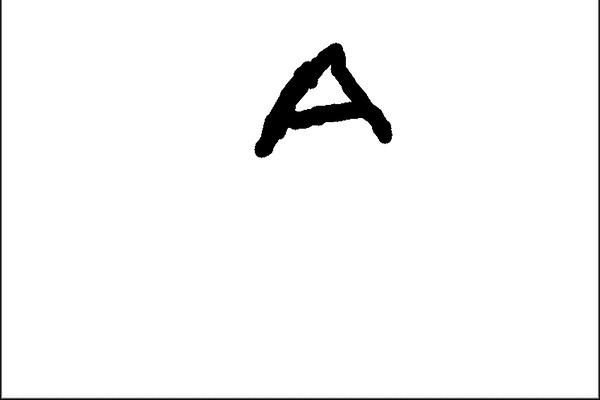A: (250, 31, 397, 171)
